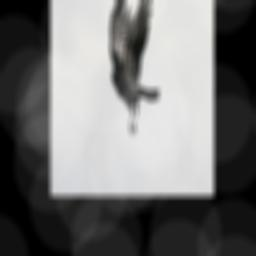Crow: (108, 0, 160, 139)
